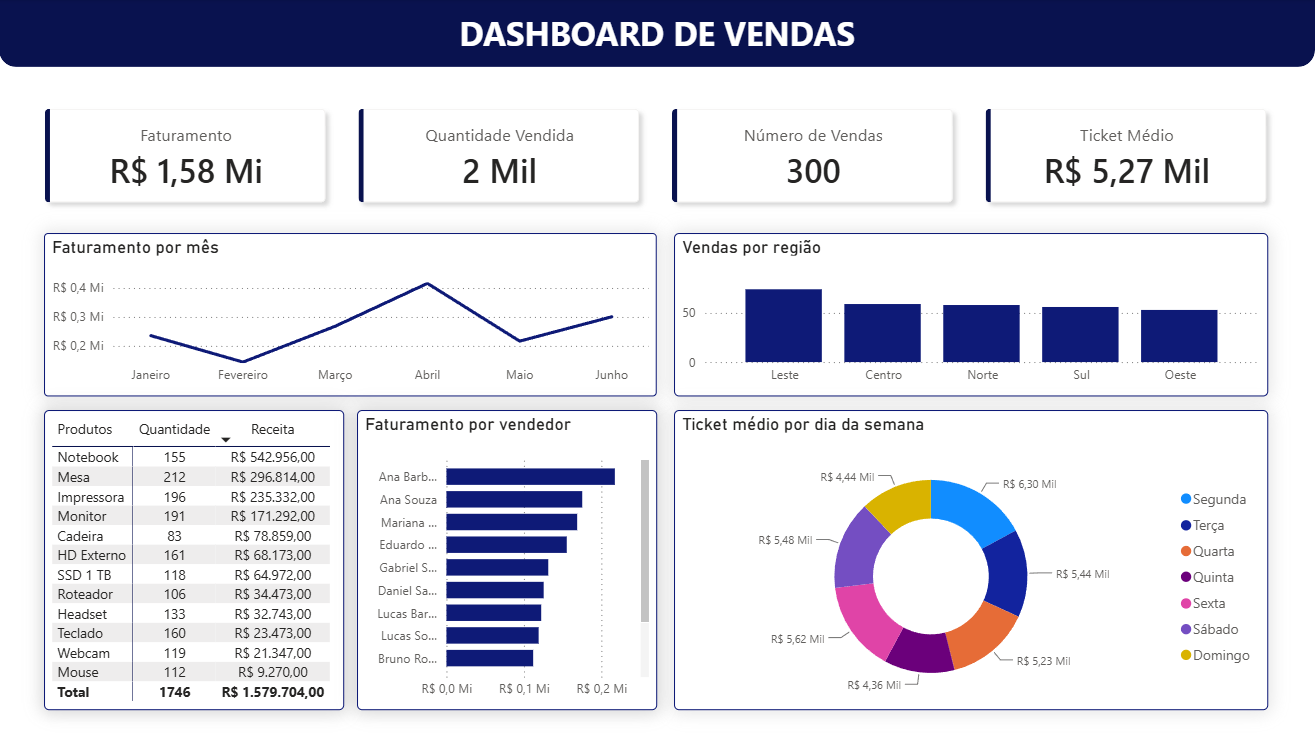

What the dashboard file says about the page in this screenshot:
{"tool":"powerbi","page":{"name":"Página 1","canvas":[1280,720],"ordinal":0},"visuals":[{"type":"shape","box":[0,0,1280,66.1],"z":0},{"type":"textbox","box":[437.7,5.8,404.6,53.5],"z":1000},{"type":"cardVisual","fields":{"Data":["Sum(public sales_clean.revenue)","Sum(public sales_clean.quantity)","CountNonNull(public sales_clean.revenue)","Avg(public sales_clean.revenue)1"]},"box":[15.6,77.8,1248.9,149.8],"z":2000},{"type":"lineChart","fields":{"Category":["public sales_clean.month"],"Y":["Sum(public sales_clean.revenue)"]},"box":[43.8,227.6,596.2,158.5],"z":3000},{"type":"columnChart","fields":{"Category":["public sales_clean.region"],"Y":["CountNonNull(public sales_clean.revenue)"]},"box":[656.5,227.6,577.8,158.5],"z":4000},{"type":"pivotTable","fields":{"Rows":["public sales_clean.product"],"Values":["Sum(public sales_clean.quantity)","Sum(public sales_clean.revenue)"]},"box":[43.8,399.8,291.8,291.8],"z":5000},{"type":"clusteredBarChart","fields":{"Category":["public sales_clean.seller"],"Y":["Sum(public sales_clean.revenue)"]},"box":[348.2,399.8,291.8,291.8],"z":6000},{"type":"donutChart","fields":{"Category":["public sales_clean.day_of_week"],"Y":["Avg(public sales_clean.revenue)"]},"box":[656.5,399.8,577.8,291.8],"z":7000}]}

Visuals, with their boxes in screenshot pixels (x1, y1, x2, y2), scaled from the page's 1280x720 canvas onto the 1315x738 screenshot:
shape: (0,0,1314,68)
textbox: (450,6,865,61)
cardVisual - Sum(public sales_clean.revenue) x Sum(public sales_clean.quantity): (16,80,1299,233)
lineChart - public sales_clean.month x Sum(public sales_clean.revenue): (45,233,658,396)
columnChart - public sales_clean.region x CountNonNull(public sales_clean.revenue): (674,233,1268,396)
pivotTable - public sales_clean.product x Sum(public sales_clean.quantity): (45,410,345,709)
clusteredBarChart - public sales_clean.seller x Sum(public sales_clean.revenue): (358,410,658,709)
donutChart - public sales_clean.day_of_week x Avg(public sales_clean.revenue): (674,410,1268,709)
